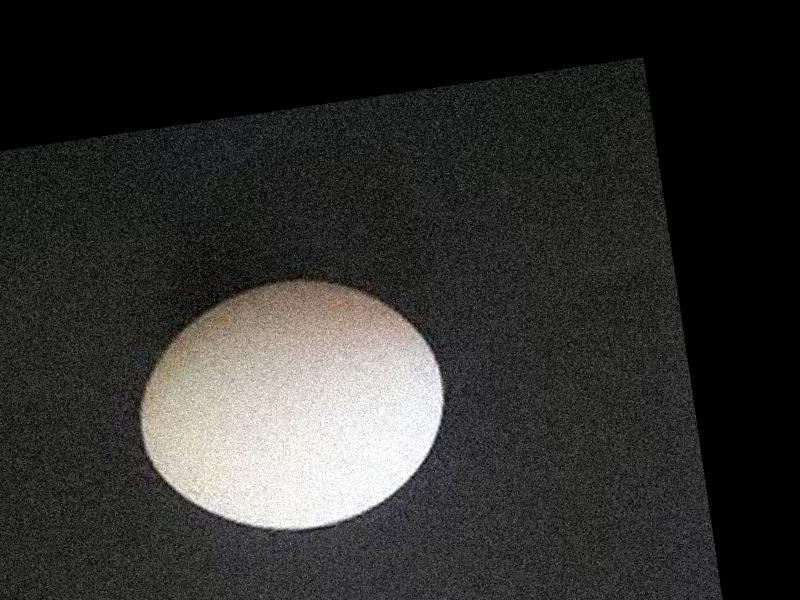Eggs: (120, 264, 452, 549)
